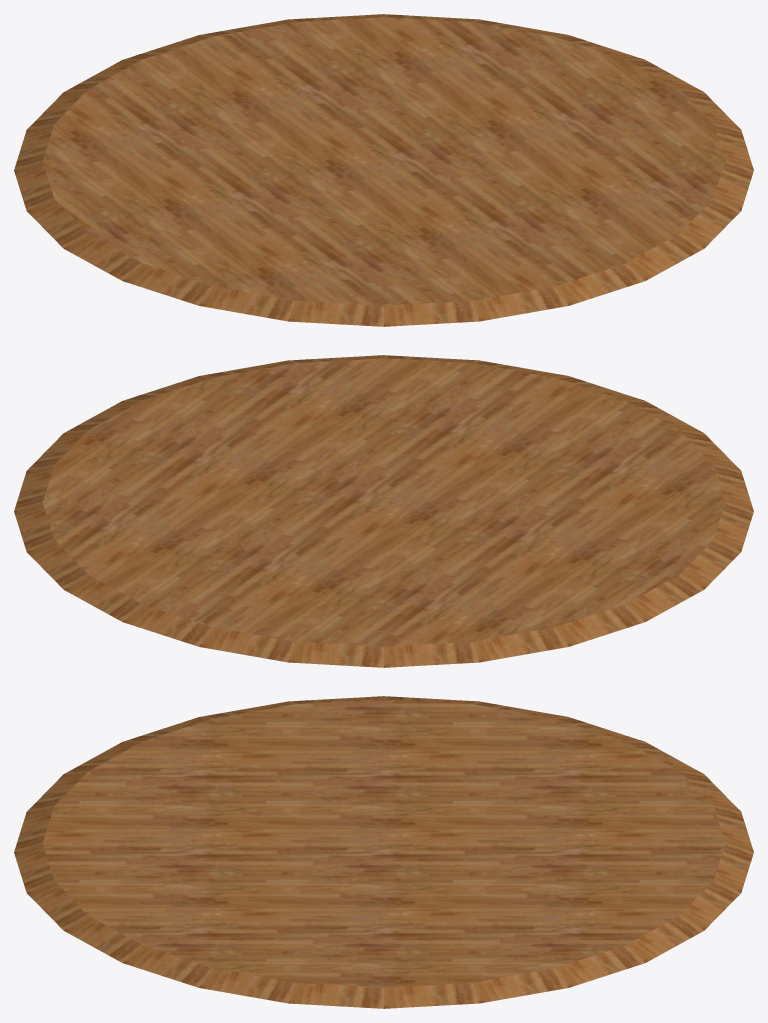
File: studioFloor.dae
The picture shows the model from 3 angles, top to bottom: view 1: azimuth 30°, elevation 25°; view 2: azimuth 150°, elevation 25°; view 3: azimuth 270°, elevation 25°; orthographic projection.
Parts seen in each view (by area): view 1: SketchUp; view 2: SketchUp; view 3: SketchUp.
Part boxes in pixels (x1=…): SketchUp: x1=14, y1=14, x2=753, y2=326; SketchUp: x1=14, y1=355, x2=753, y2=667; SketchUp: x1=14, y1=696, x2=753, y2=1008.
Bounding box in the file's own units: 117 × 117 × 1.57.
1 material, 1 textured.
